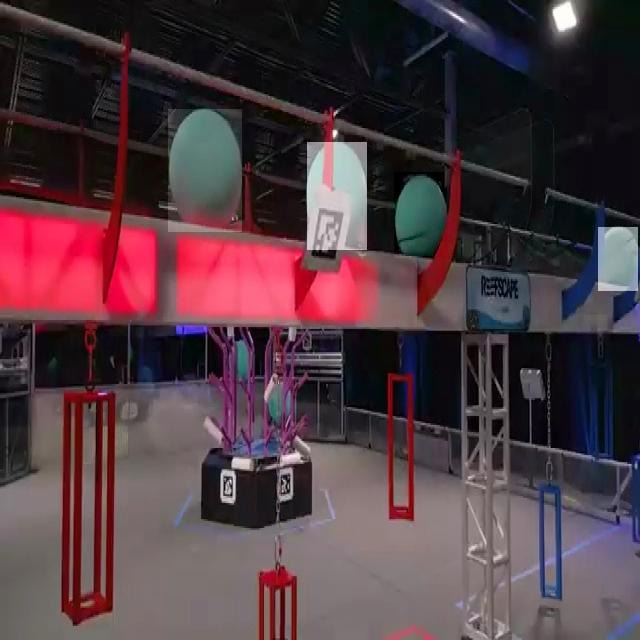Algae: (168, 109, 242, 232), (307, 142, 367, 250), (394, 172, 447, 258), (598, 227, 638, 291)
